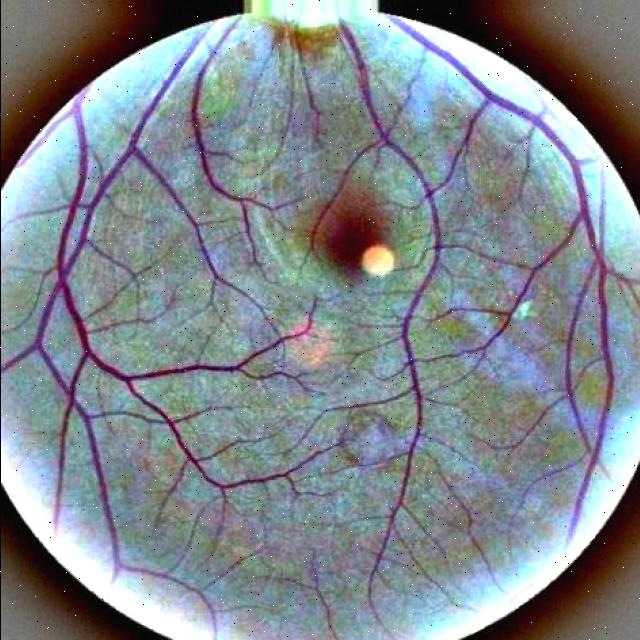Macula: (310, 181, 404, 290)
Nerves: (36, 26, 336, 549), (412, 20, 630, 546), (344, 43, 454, 640)
Optic Disk: (209, 4, 412, 72)
